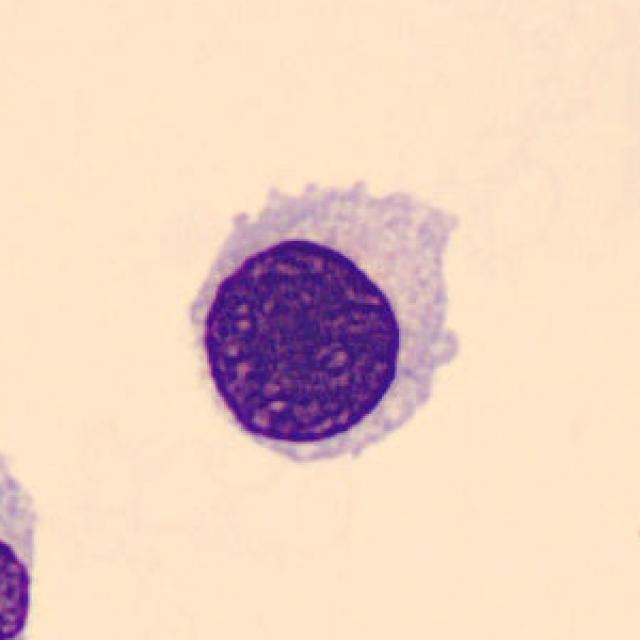White Blood Cell: (192, 185, 456, 460)
